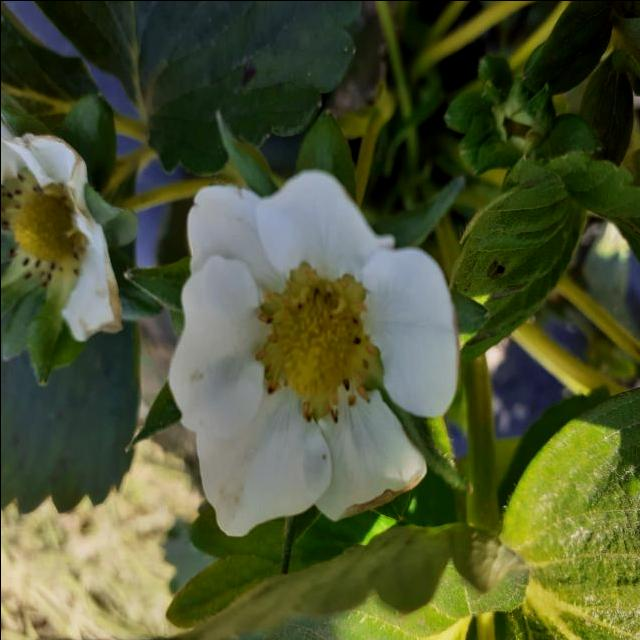flower: (180, 173, 462, 538), (0, 132, 123, 355)
